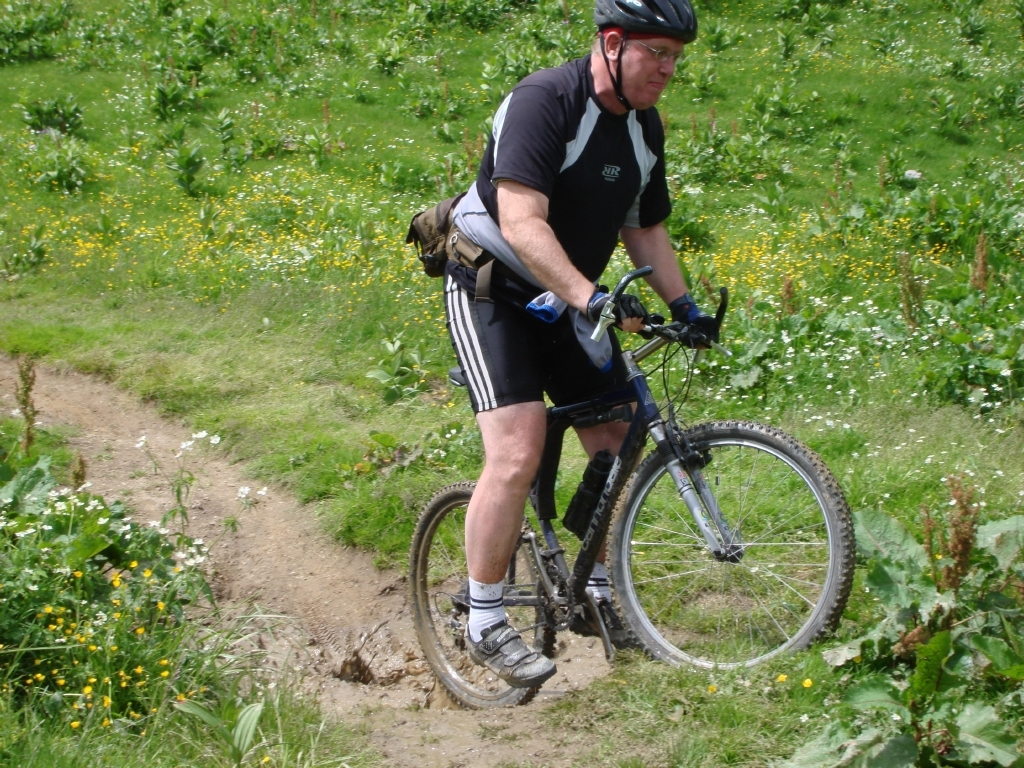Bike_toward: (325, 274, 875, 737)
